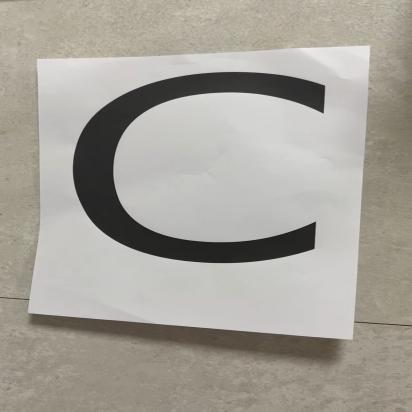seat: (61, 60, 348, 326)
